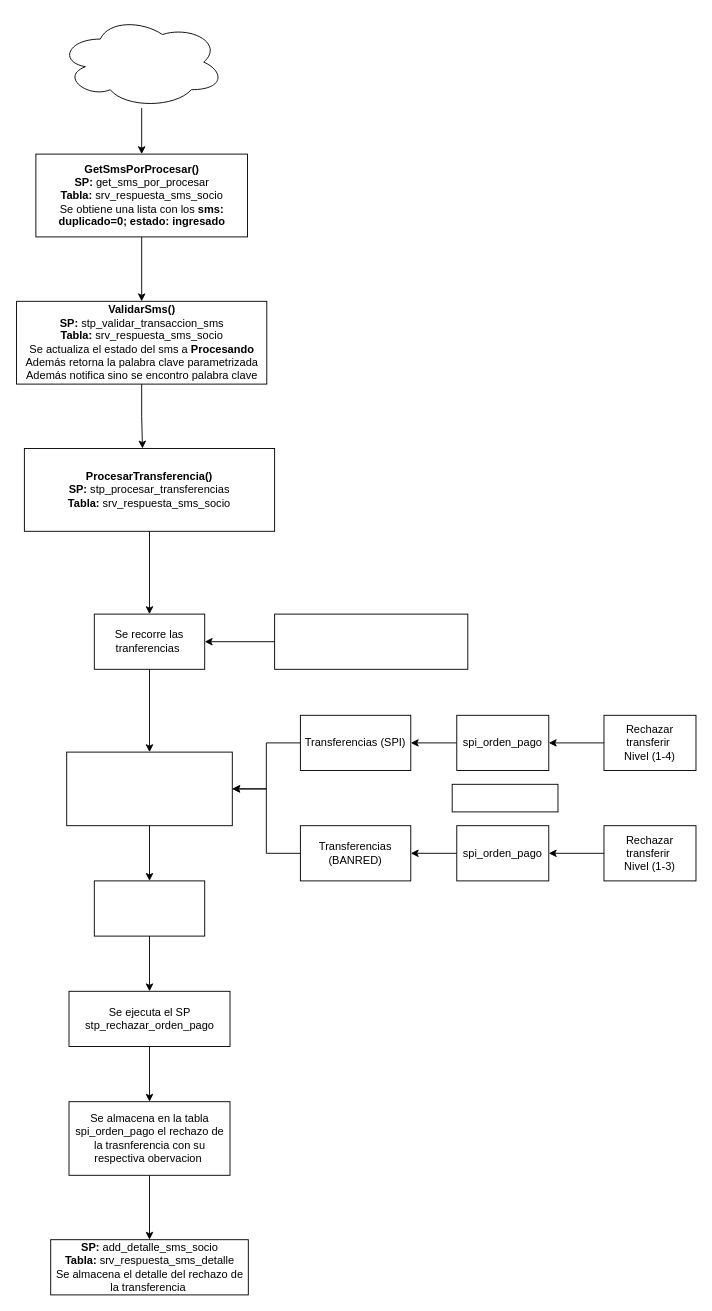
This 712x1311 diagram has some shape labels left out. Here are the shapes that lost their labels. From the top down, the centre of each, then its label:
the point at 141,61: WS_PROCESARSMS
the point at 371,641: Se almacena en #transferencias_hace_un_dia
the point at 149,788: Se almacena en #transferencias_por_rechazar
the point at 504,797: op_tipotran_ingresa
the point at 149,908: Se recorre las transferencias a rechazar
